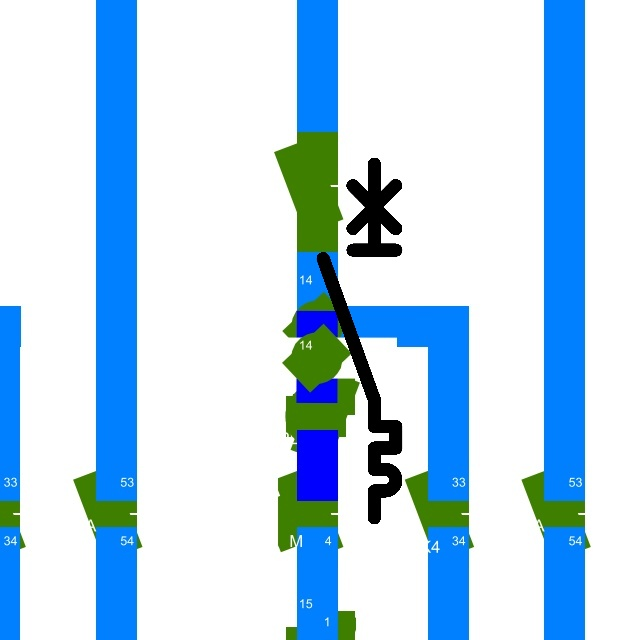interruptor_termomagnetico: (314, 155, 405, 527)
